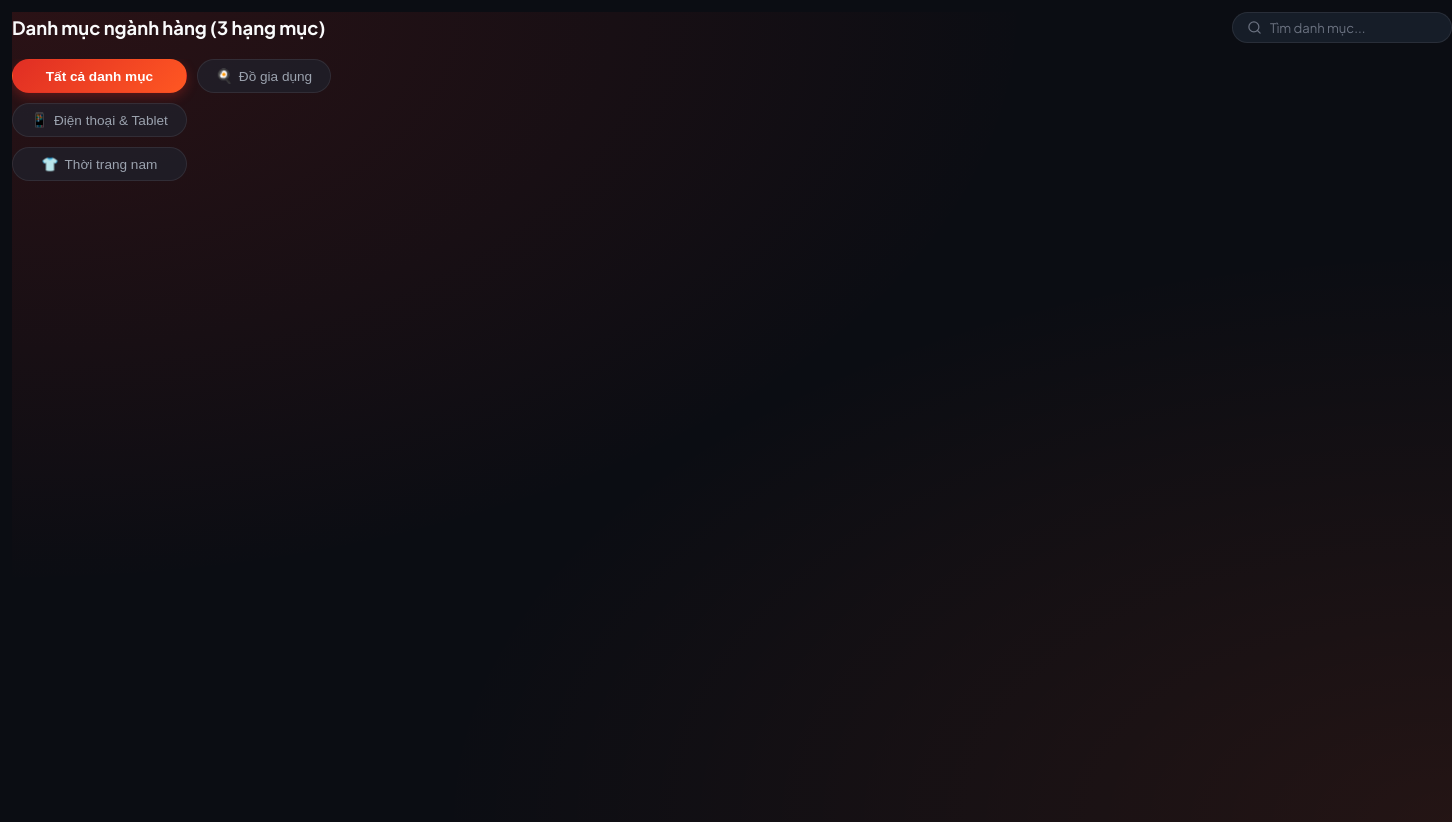
Test: Search & Filter Module › TC_FILTER_05: Should show empty state when no category matches search query
In the field with test id "category-search-input": (1354, 28) [1270, 19, 1437, 36], type "KhôngTồnTại123"
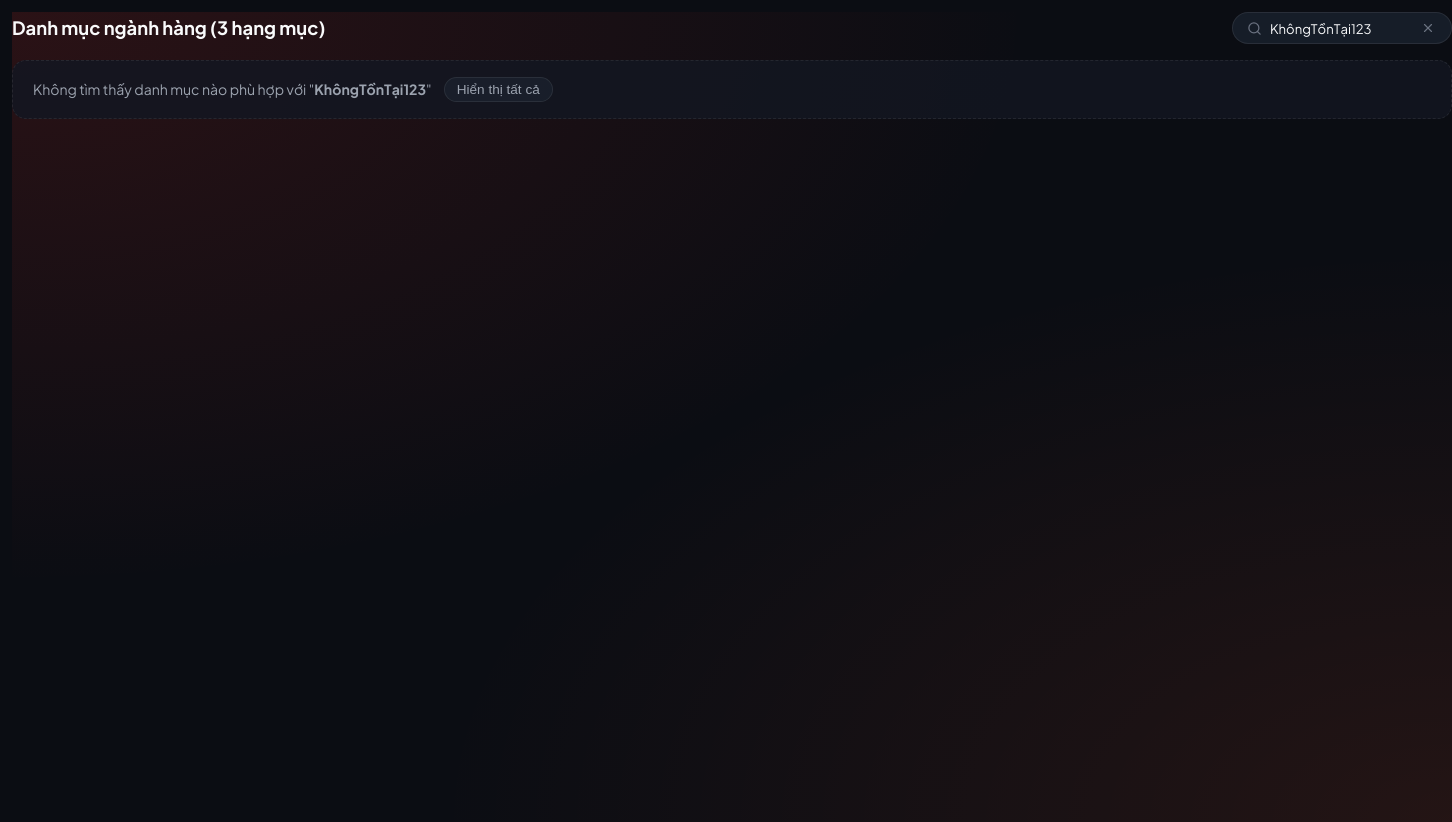
Now the element with test id "category-empty-state" is shown, box [12, 60, 1451, 119]
